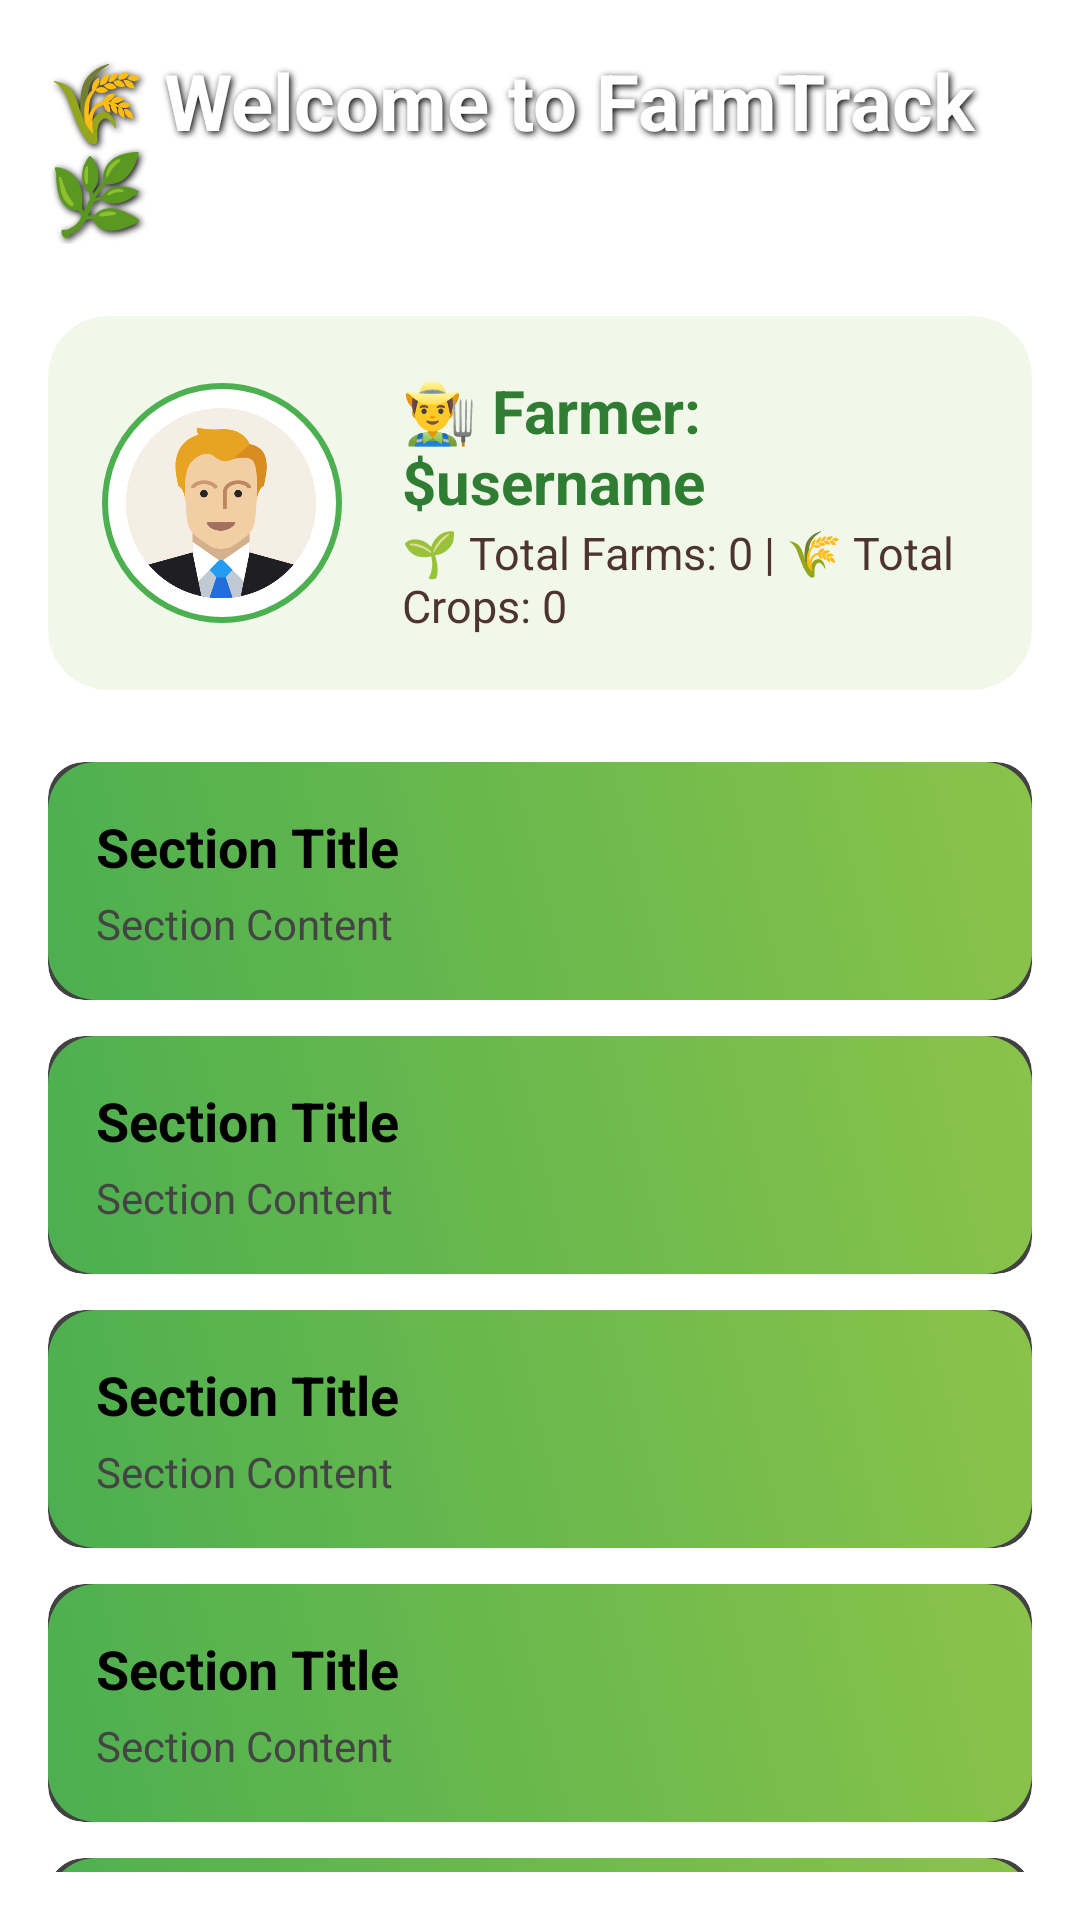

Locate icon controls on the screen. Image size 1080 × 1920, boxes as (x1,y1,x2,y2).
Profile: (102,383,342,623)
